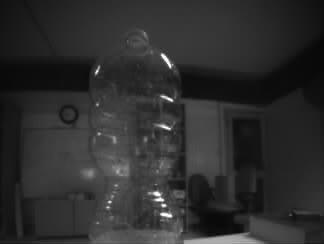Bottle: (90, 26, 183, 243)
